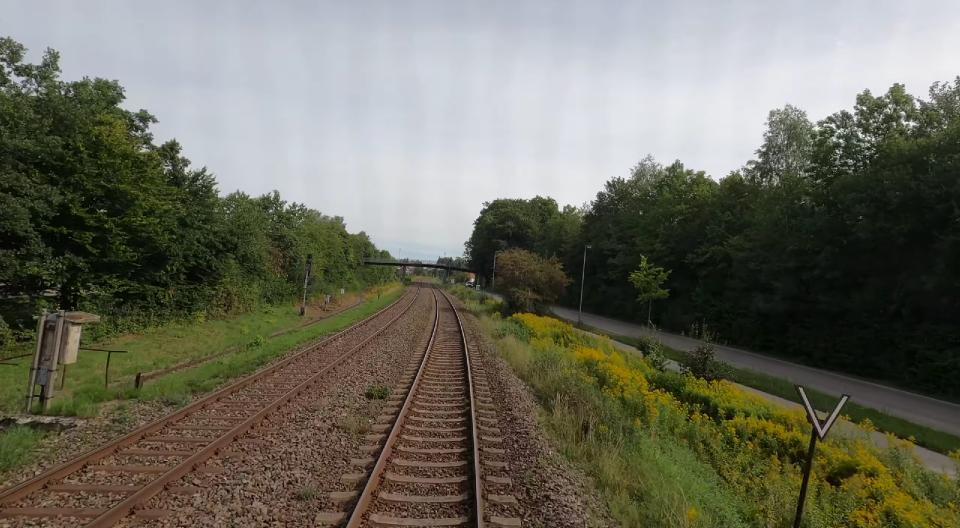Plant: (119, 291, 402, 406), (476, 314, 534, 383), (0, 427, 52, 471), (340, 415, 370, 435), (295, 485, 319, 501), (364, 386, 390, 399)
